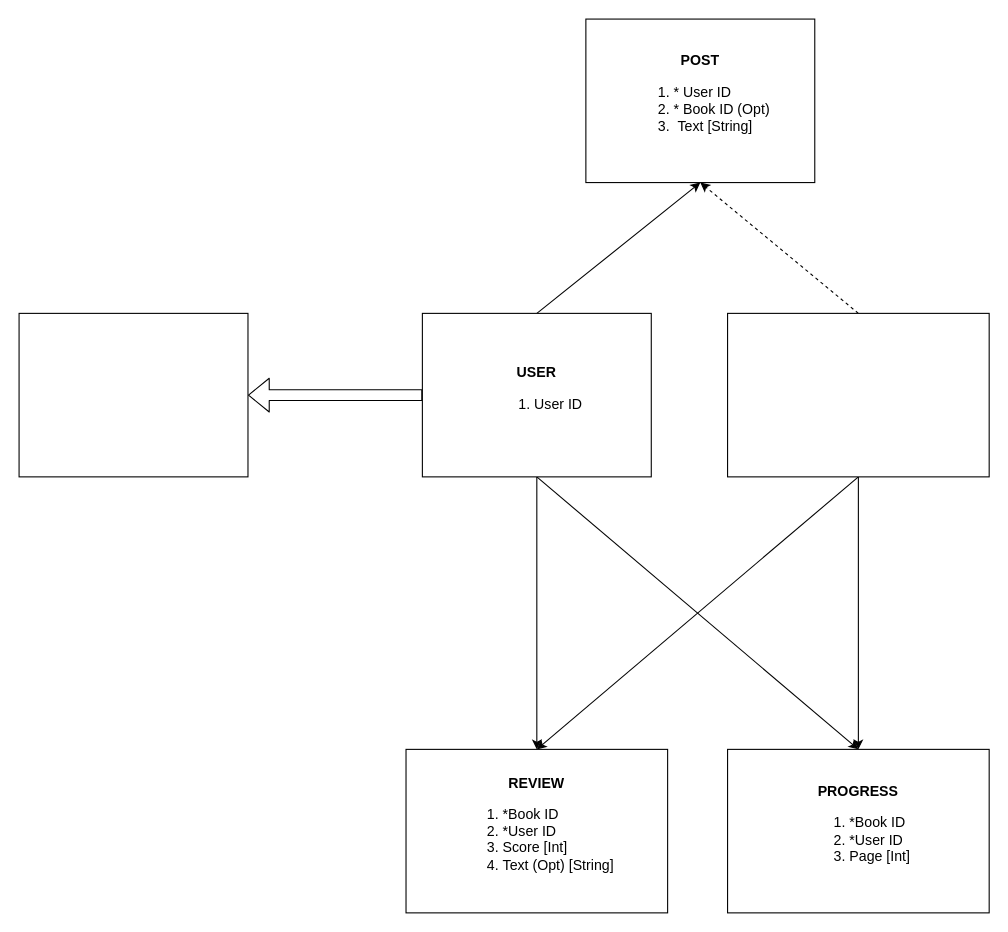
The diagram is 1008 pixels wide and 932 high, and some of its shapes have lost their labels. Here are the shapes that lost their labels. From the top down, the centre of each, then its label:
(x=133, y=394): REPORT * MadeBy User ID * Target UserID Reason [String] Comment (Opt)[String]
(x=857, y=394): BOOK ISBN [String] Title [String] Description [String] Pagecount [Int]
